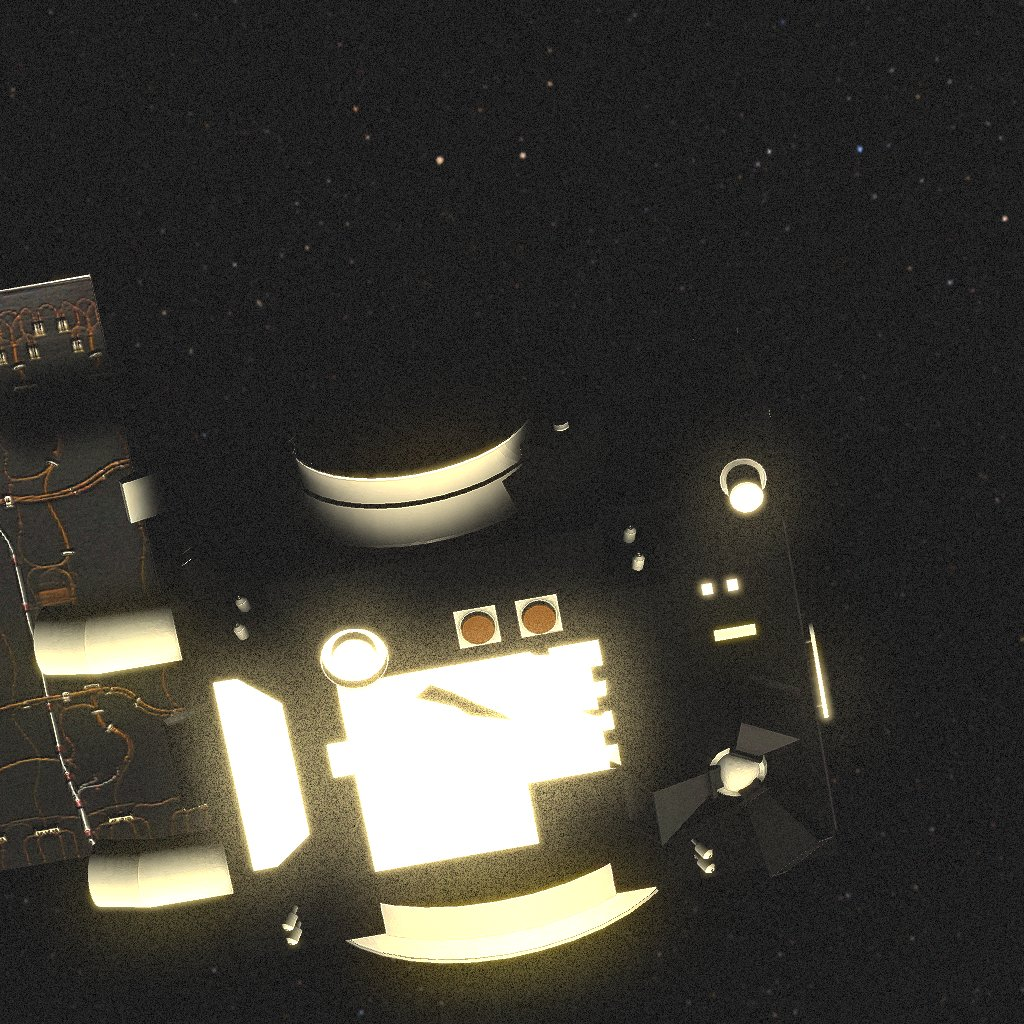proba_3_csc: (0, 271, 839, 963)
